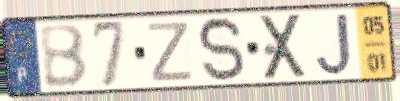7: (90, 19, 127, 90)
B: (37, 22, 90, 90)
J: (314, 11, 355, 79)
S: (196, 14, 248, 85)
X: (258, 12, 311, 83)
Z: (145, 20, 195, 84)
